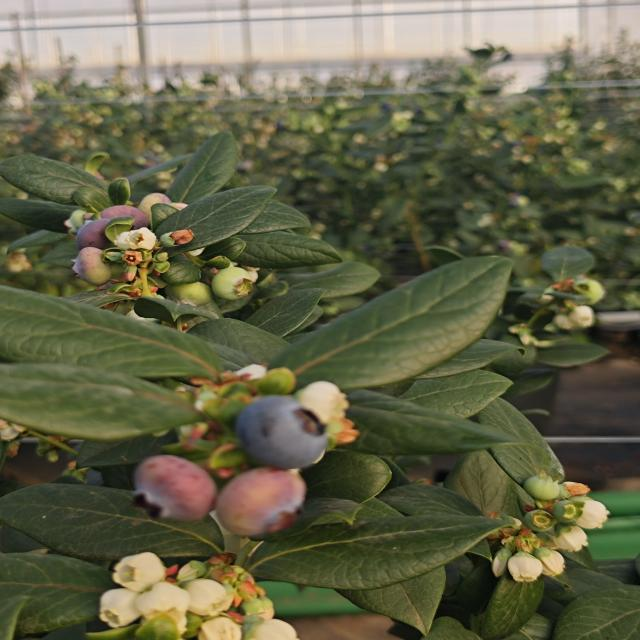ripe: (232, 392, 334, 471), (70, 206, 134, 254)
